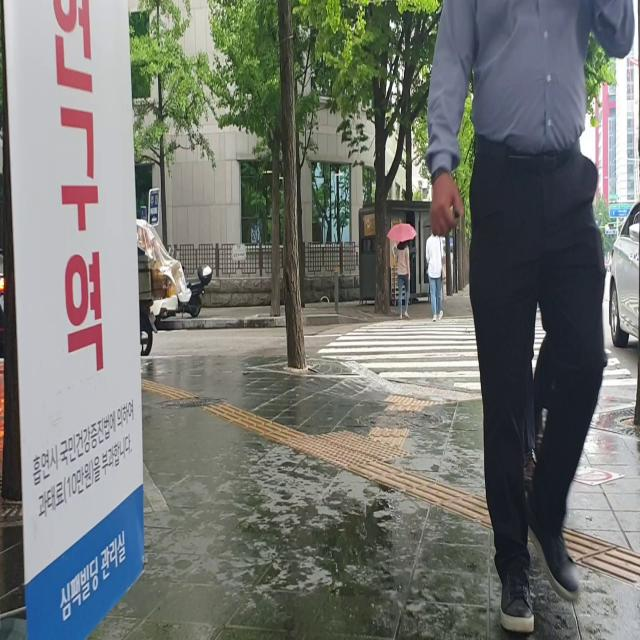횡단보도: (314, 316, 638, 391)
